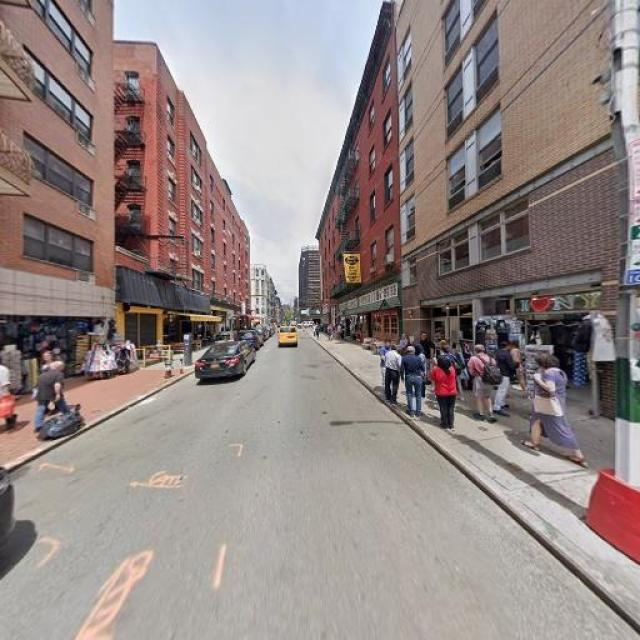Building: (400, 1, 640, 440), (1, 1, 112, 399), (159, 52, 249, 354), (322, 1, 398, 357)
